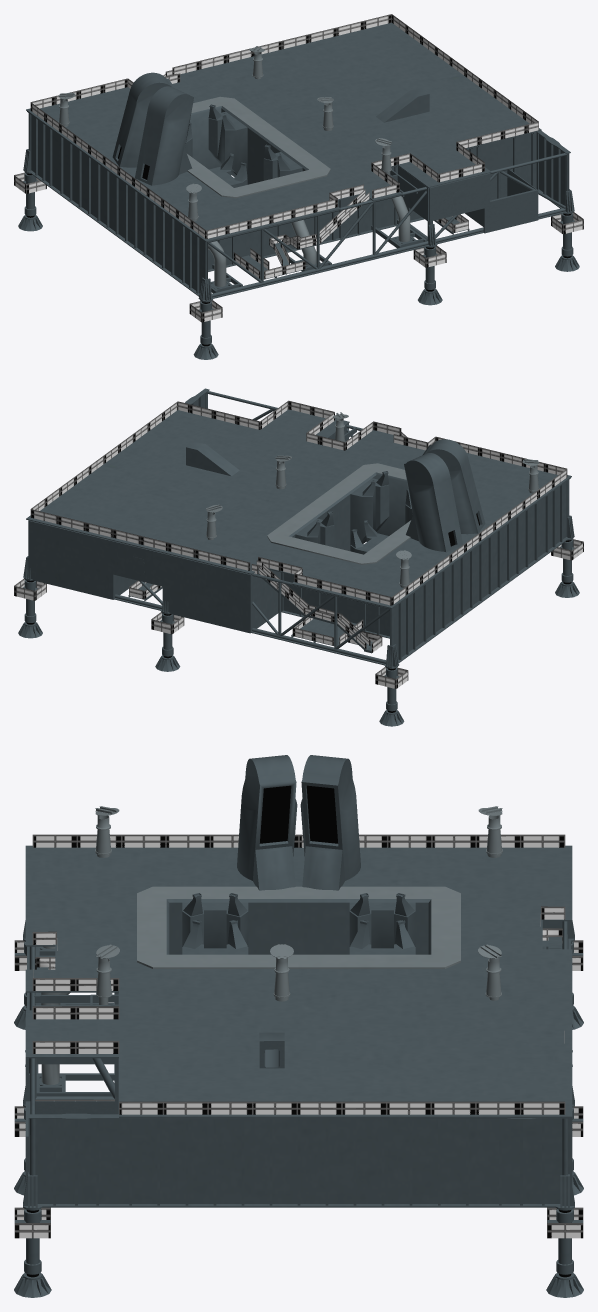
File: MLP1_HP.FBX
The picture shows the model from 3 angles, top to bottom: view 1: azimuth 30°, elevation 25°; view 2: azimuth 150°, elevation 25°; view 3: azimuth 270°, elevation 25°; orthographic projection. The views are drawn at different scales.
Visible parts, largest first — view 1: MLP-1_HP; view 2: MLP-1_HP; view 3: MLP-1_HP.
Part boxes in pixels (x1,y1,x2,y2): MLP-1_HP: [14, 14, 583, 359]; MLP-1_HP: [14, 388, 583, 726]; MLP-1_HP: [14, 755, 583, 1297].
Size of the model in its own units: 102 by 49.65 by 86.72.
Materials: 2 (2 with a texture image).
